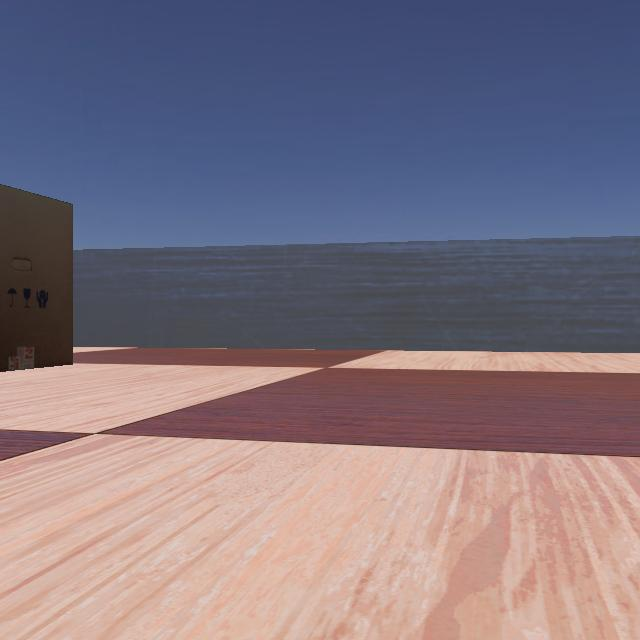cardboard-box: (0, 163, 78, 379)
